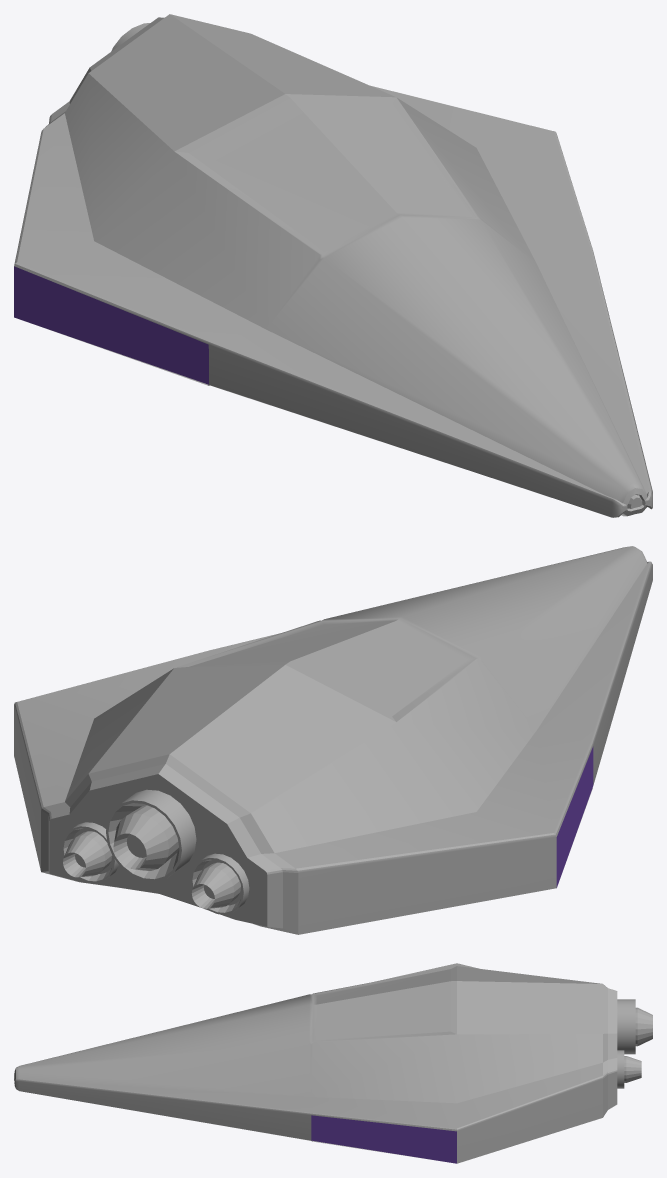
File: NotWipeOutShip_Blockout.fbx
The picture shows the model from 3 angles, top to bottom: view 1: azimuth 30°, elevation 25°; view 2: azimuth 150°, elevation 25°; view 3: azimuth 270°, elevation 25°; orthographic projection. The views are drawn at different scales.
Parts seen in each view (by area): view 1: NotWipeOutShip_Body, Panel_R; view 2: NotWipeOutShip_Body, Panel_R; view 3: NotWipeOutShip_Body, Panel_L.
Part boxes in pixels (x1=…): NotWipeOutShip_Body: x1=14, y1=14, x2=652, y2=517; Panel_R: x1=14, y1=266, x2=208, y2=384; NotWipeOutShip_Body: x1=14, y1=546, x2=652, y2=934; Panel_R: x1=556, y1=746, x2=593, y2=887; NotWipeOutShip_Body: x1=14, y1=963, x2=652, y2=1163; Panel_L: x1=311, y1=1115, x2=456, y2=1163.
Bounding box in the file's own units: 494 × 145 × 799.
